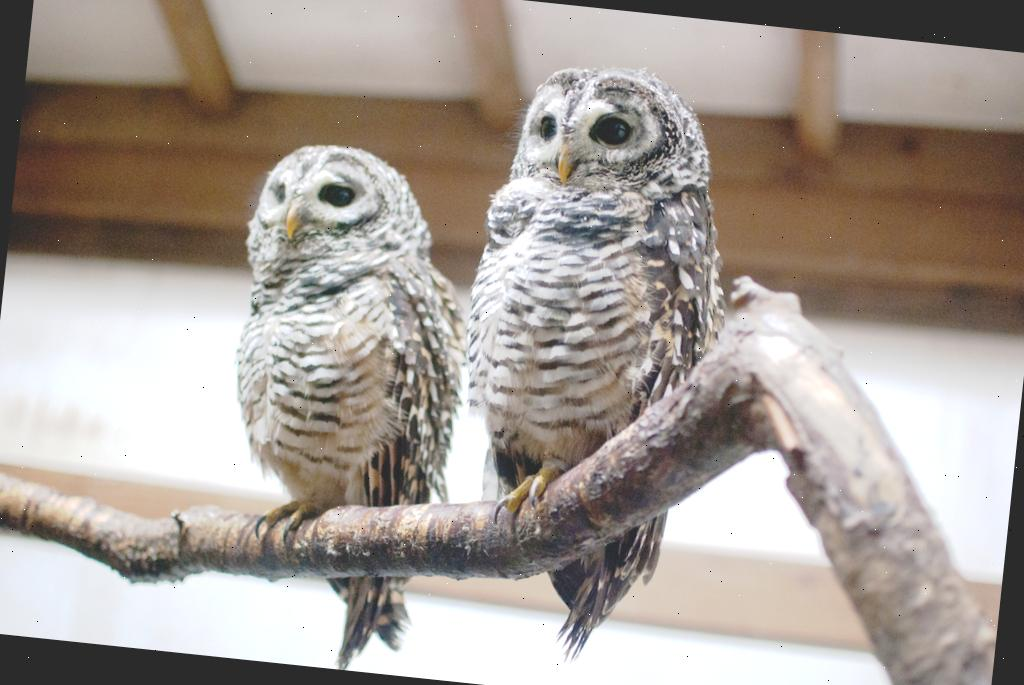Owl: (430, 44, 760, 679), (196, 130, 490, 678)
